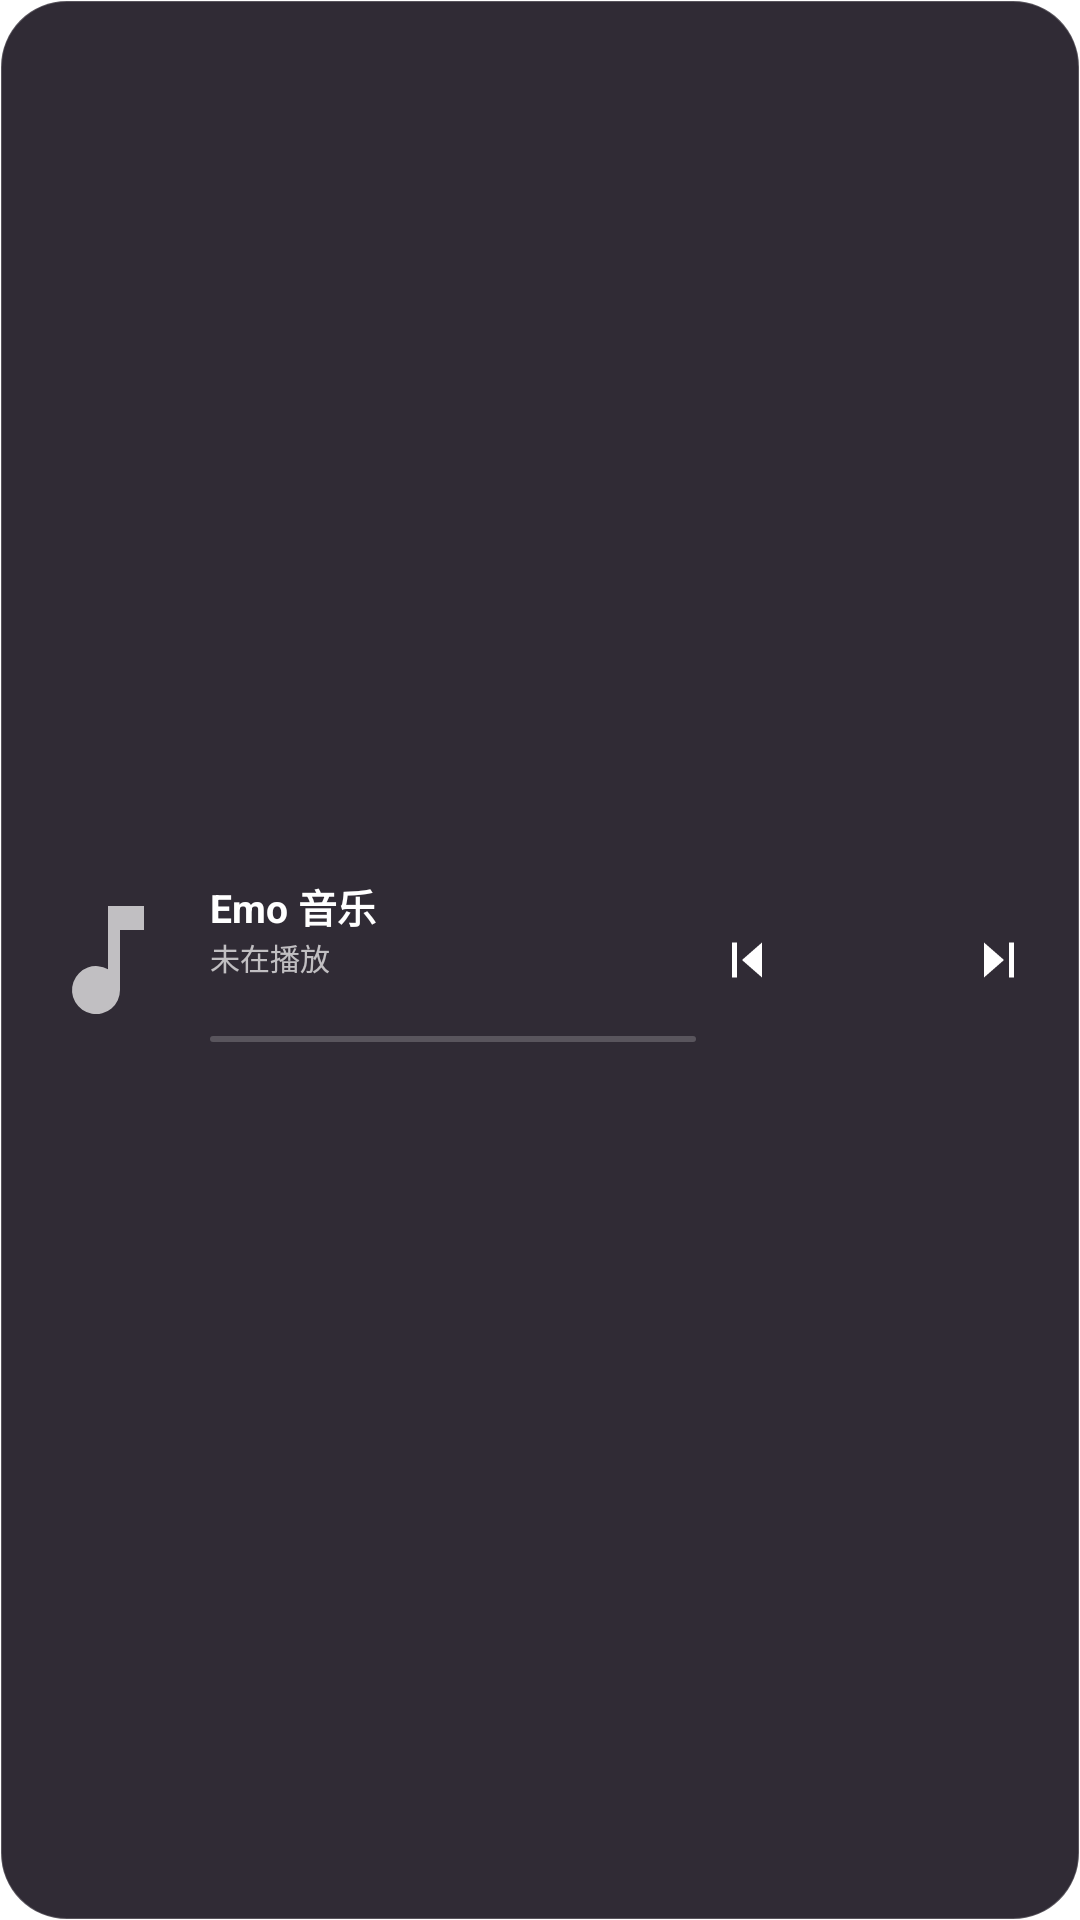

Named icons in this screenshot (1080 x 1920) and their bounding boxes, [x1,y1,x2,y2]:
widget next: [984,942,1014,978]
widget prev: [732,942,762,978]
